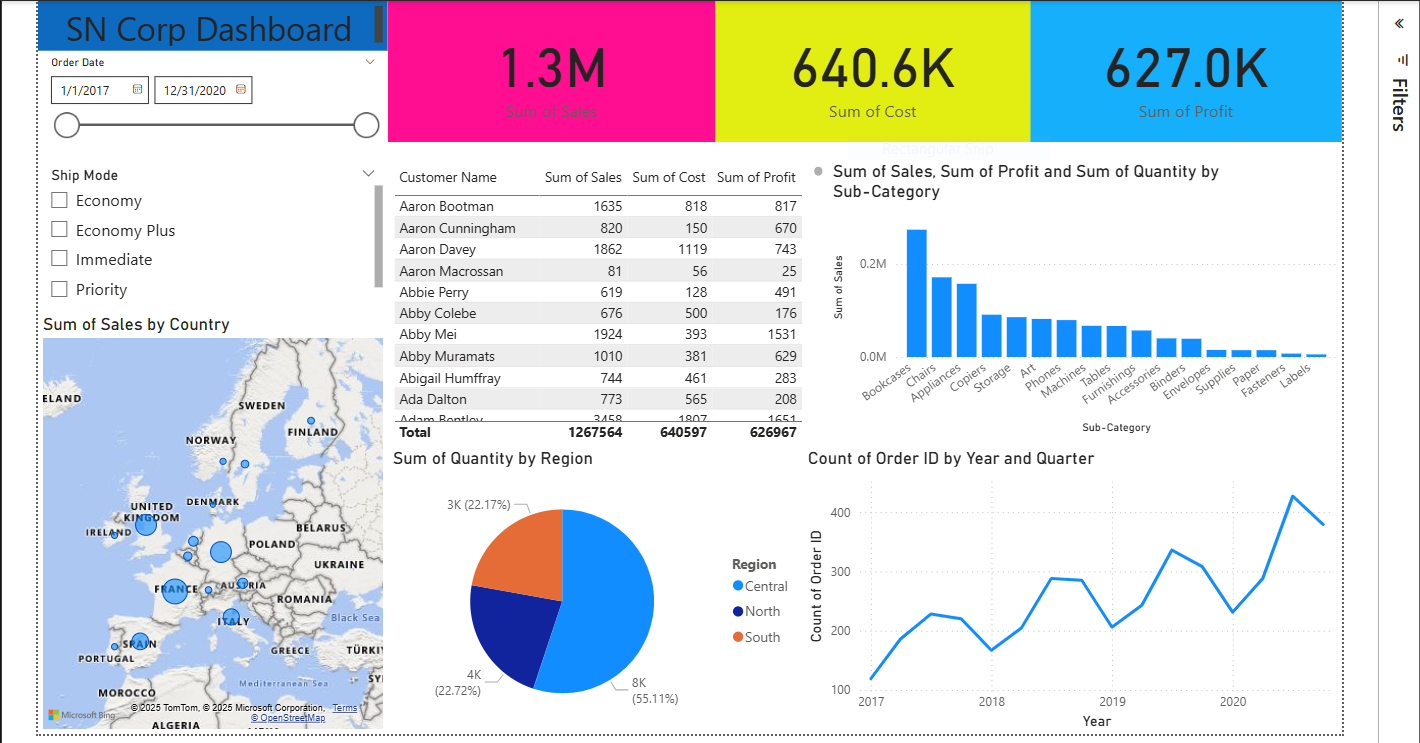

The page's visual inventory and layout, read from the dashboard file:
{"tool":"powerbi","page":{"name":"Page 1","canvas":[1280,720],"ordinal":0},"visuals":[{"type":"card","fields":{"Values":["List of Orders.Sales"]},"box":[343.6,0,321.5,138.7],"z":0},{"type":"card","fields":{"Values":["List of Orders.Cost"]},"box":[665,0,309.2,138.7],"z":1000},{"type":"card","fields":{"Values":["List of Orders.Profit"]},"box":[974.2,0,305.5,138.7],"z":2000},{"type":"tableEx","fields":{"Values":["List of Orders.Customer Name","List of Orders.Sales","List of Orders.Cost","List of Orders.Profit"]},"box":[343.6,157.1,431.9,281],"z":3000},{"type":"clusteredColumnChart","fields":{"Y":["List of Orders.Sales"],"Category":["List of Orders.Sub-Category"]},"box":[775.5,157.1,504.3,272.4],"z":4000},{"type":"lineChart","fields":{"Y":["List of Orders.Order ID"],"Category":["List of Orders.Order Date.Variation.Date Hierarchy.Year","List of Orders.Order Date.Variation.Date Hierarchy.Quarter"]},"box":[750.9,438,528.8,282.2],"z":5000},{"type":"pieChart","fields":{"Y":["List of Orders.Quantity"],"Category":["List of Orders.Region"]},"box":[343.6,438,407.4,282.2],"z":6000},{"type":"map","fields":{"Category":["List of Orders.Country"],"Size":["List of Orders.Sales"]},"box":[0,306.8,343.6,413.5],"z":7000},{"type":"textbox","box":[0,0,343.6,49.1],"z":8000},{"type":"slicer","fields":{"Values":["List of Orders.Ship Mode"]},"box":[0,157.1,343.6,141.1],"z":9000},{"type":"slicer","fields":{"Values":["List of Orders.Order Date"]},"box":[0,49.1,343.6,98.2],"z":10000}]}

Visuals, with their boxes on the page's 1280x720 design canvas (x1, y1, x2, y2). These are canvas units, not pixel positions in the 1420x743 screenshot, which may show the page scaled, cropped or inside an application window:
card - List of Orders.Sales: (left=344, top=0, right=665, bottom=139)
card - List of Orders.Cost: (left=665, top=0, right=974, bottom=139)
card - List of Orders.Profit: (left=974, top=0, right=1280, bottom=139)
tableEx - List of Orders.Customer Name x List of Orders.Sales: (left=344, top=157, right=776, bottom=438)
clusteredColumnChart - List of Orders.Sales x List of Orders.Sub-Category: (left=776, top=157, right=1280, bottom=430)
lineChart - List of Orders.Order ID x List of Orders.Order Date.Variation.Date Hierarchy.Year: (left=751, top=438, right=1280, bottom=720)
pieChart - List of Orders.Quantity x List of Orders.Region: (left=344, top=438, right=751, bottom=720)
map - List of Orders.Country x List of Orders.Sales: (left=0, top=307, right=344, bottom=720)
textbox: (left=0, top=0, right=344, bottom=49)
slicer - List of Orders.Ship Mode: (left=0, top=157, right=344, bottom=298)
slicer - List of Orders.Order Date: (left=0, top=49, right=344, bottom=147)
